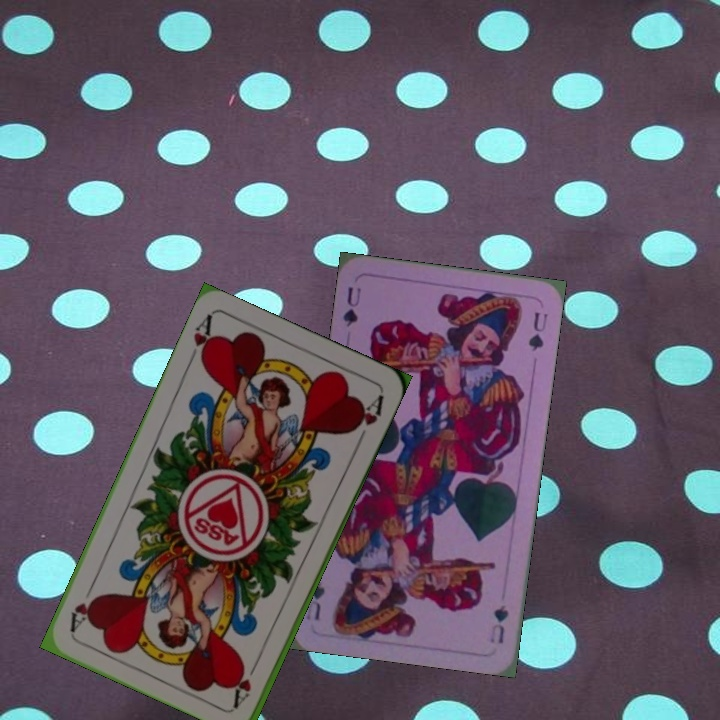GU: (339, 283, 364, 329), (486, 601, 511, 647)
HA: (229, 652, 264, 708), (184, 311, 217, 368)
